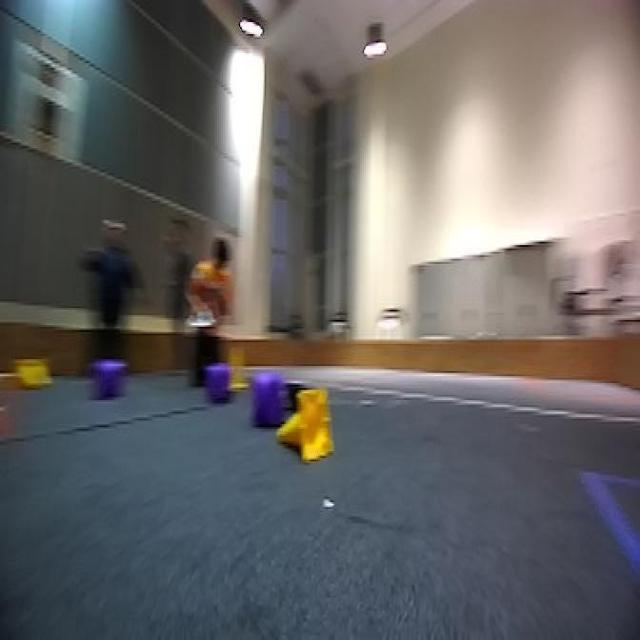frc_cone: (277, 386, 338, 463), (228, 341, 252, 392), (20, 359, 48, 383)
frc_cube: (252, 368, 292, 434), (98, 352, 126, 402), (201, 359, 230, 402)
